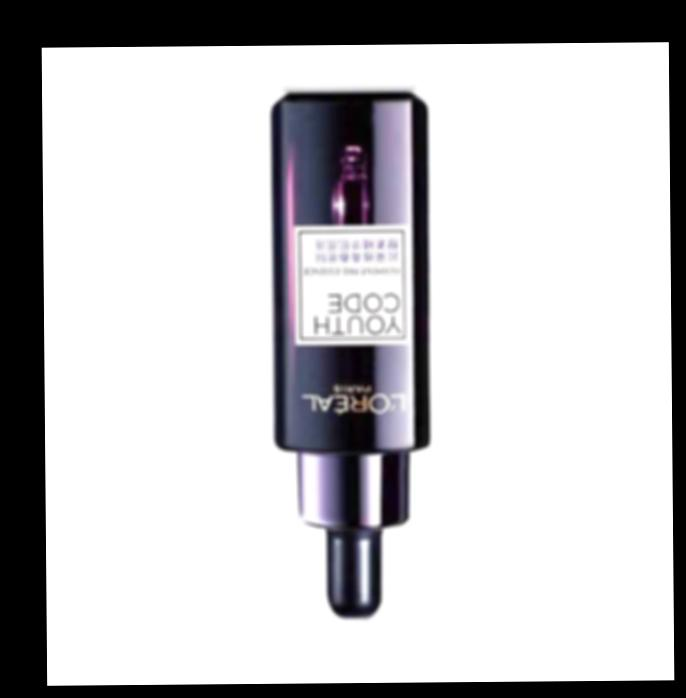cosmetic: (274, 92, 429, 619)
